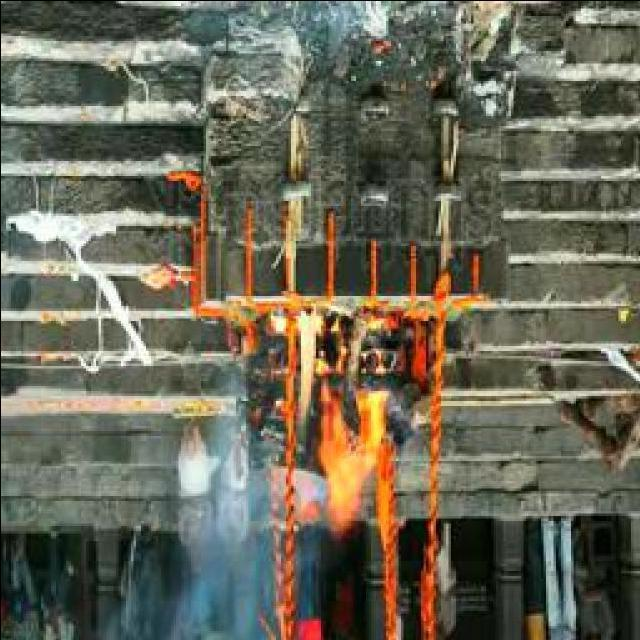Fire: (291, 308, 387, 542)
